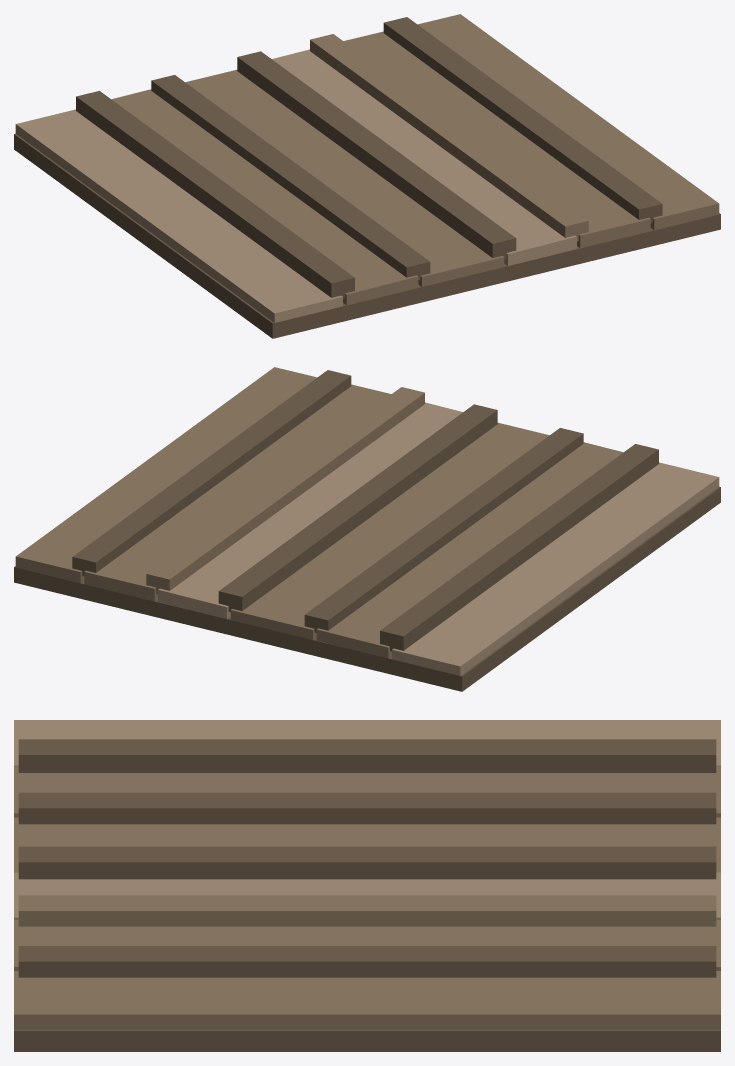
The model's file is roof_planks.glb.
The picture shows the model from 3 angles, top to bottom: view 1: azimuth 30°, elevation 25°; view 2: azimuth 150°, elevation 25°; view 3: azimuth 270°, elevation 25°; orthographic projection. The views are drawn at different scales.
Parts seen in each view (by area): view 1: Roof_Planks; view 2: Roof_Planks; view 3: Roof_Planks.
Part boxes in pixels (x1=…): Roof_Planks: x1=14, y1=14, x2=720, y2=338; Roof_Planks: x1=14, y1=367, x2=720, y2=691; Roof_Planks: x1=14, y1=720, x2=720, y2=1051.
Bounding box in the file's own units: 1.52 × 0.1288 × 1.52.
